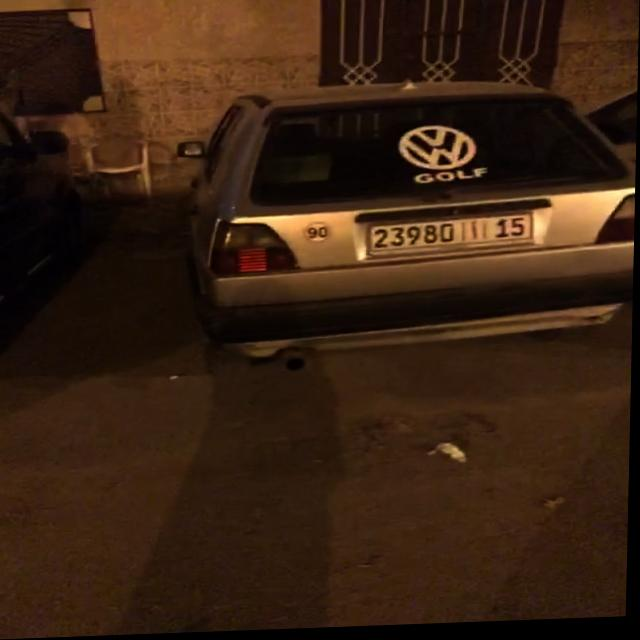License-Plate: (373, 219, 532, 256)
